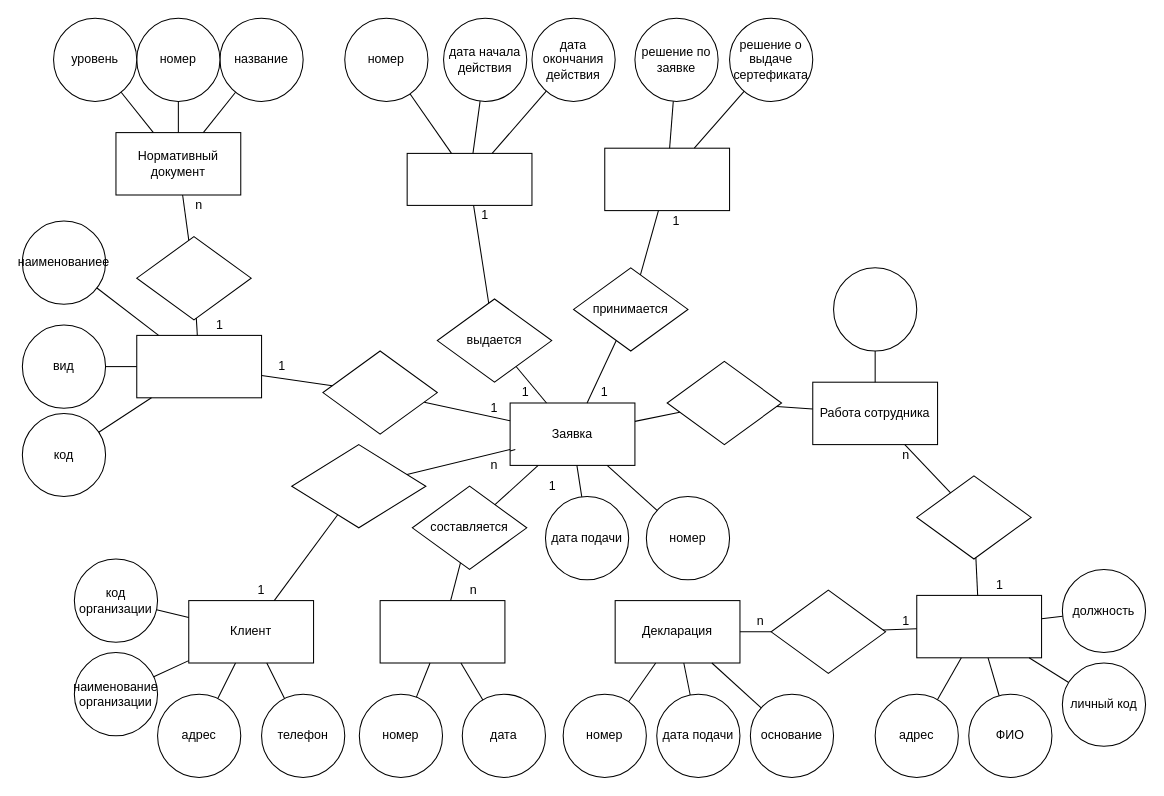
This 1164x796 diagram has some shape labels left out. Here are the shapes that lost their labels. From the top down, the centre of each, then its label:
(469,178): Сертефикат
(667,179): Решение
(193,278): используется
(875,309): вид работы
(199,366): Вид продукции
(379,392): устанавливается
(724,402): обрабатывается
(358,486): Направляет
(973,517): выполняет
(442,631): Протокол испытания
(828,631): руководствуется
(979,626): Сотрудник
